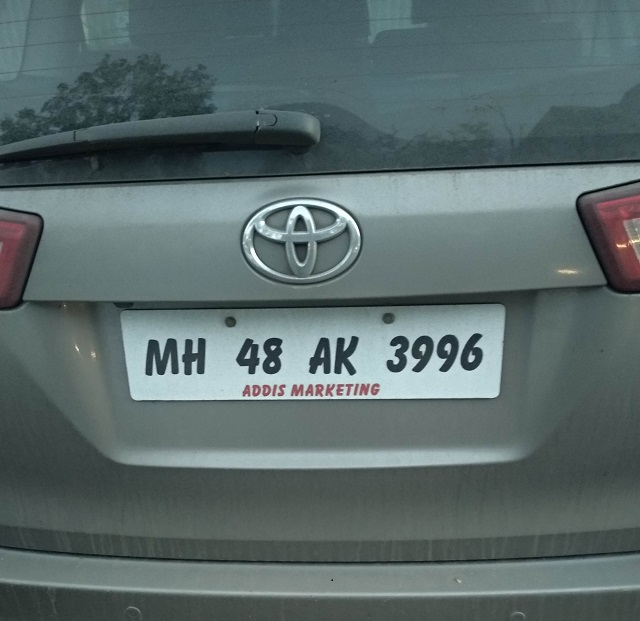licenseplate: (117, 303, 512, 406)
